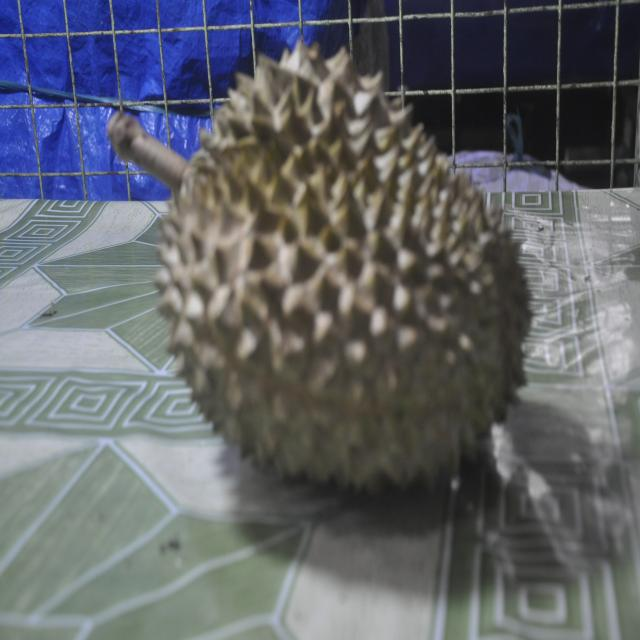mature: (108, 41, 531, 494)
